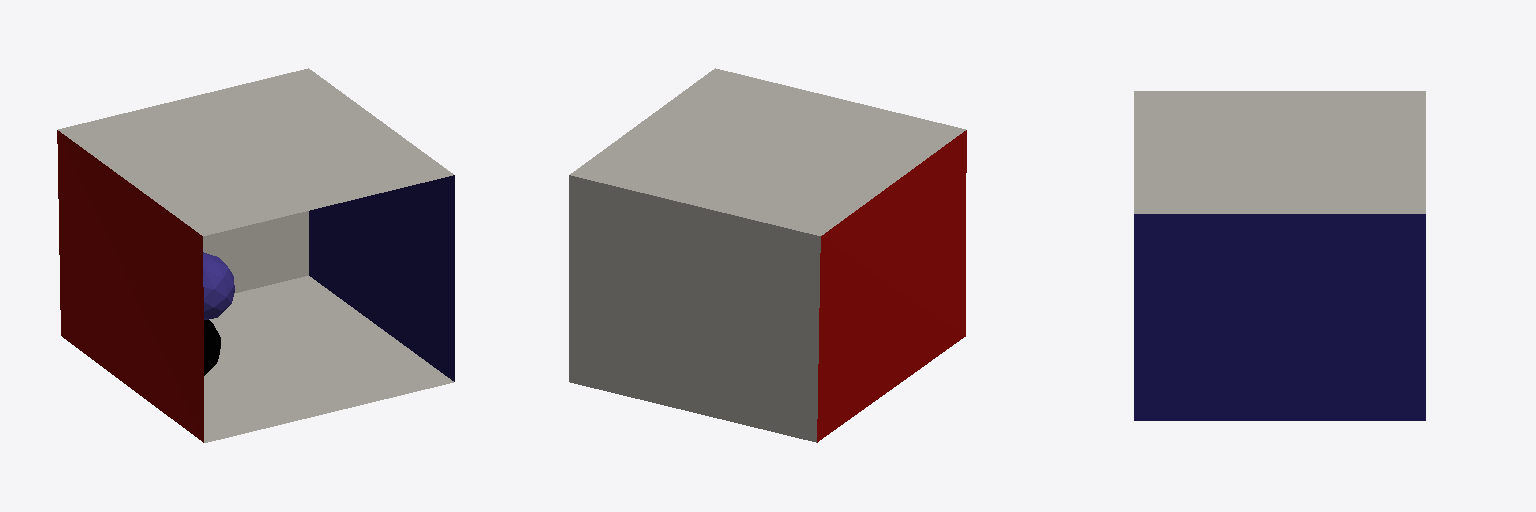
Rendered from CornellBox-Sphere-911.obj.
3 renders of one model, left to right at view 1: azimuth 30°, elevation 25°; view 2: azimuth 150°, elevation 25°; view 3: azimuth 270°, elevation 25°, orthographic.
Visible parts, largest first — view 1: ceiling, leftWall, floor, rightWall, backWall, leftSphere, rightSphere; view 2: backWall, ceiling, leftWall; view 3: rightWall, ceiling.
Boxes of the visible parts, x1=… form: ceiling: x1=58, y1=68, x2=453, y2=235; leftWall: x1=57, y1=130, x2=203, y2=442; floor: x1=204, y1=276, x2=453, y2=442; rightWall: x1=309, y1=175, x2=454, y2=381; backWall: x1=203, y1=211, x2=308, y2=293; leftSphere: x1=203, y1=252, x2=234, y2=319; rightSphere: x1=204, y1=320, x2=220, y2=375; backWall: x1=569, y1=175, x2=820, y2=442; ceiling: x1=570, y1=68, x2=965, y2=235; leftWall: x1=817, y1=130, x2=966, y2=442; rightWall: x1=1134, y1=214, x2=1425, y2=420; ceiling: x1=1134, y1=91, x2=1425, y2=213.
Size of the model in its own units: 2.02 by 1.59 by 2.03.